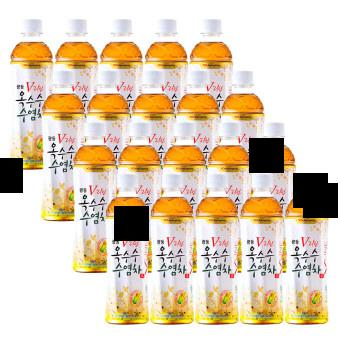oksususuyeomcha: (104, 169, 150, 326), (240, 171, 286, 327), (151, 169, 196, 325), (196, 170, 239, 329), (73, 119, 116, 275), (288, 171, 330, 326), (41, 69, 84, 220), (10, 17, 51, 167)
